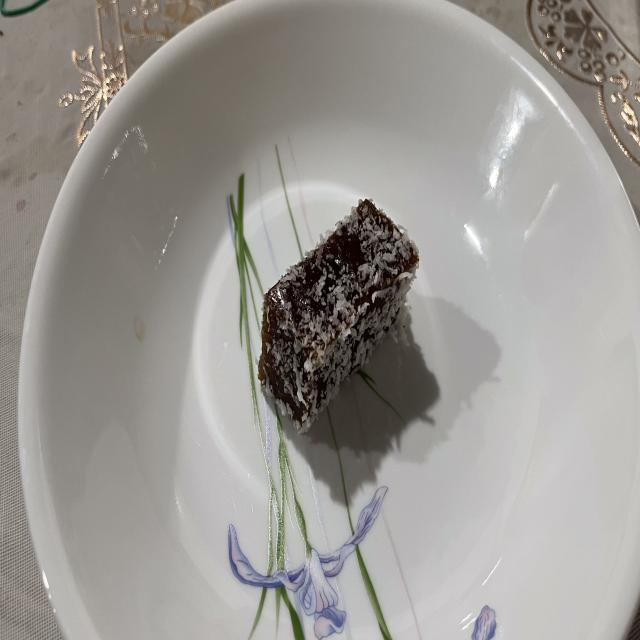kaswi: (259, 200, 419, 433)
